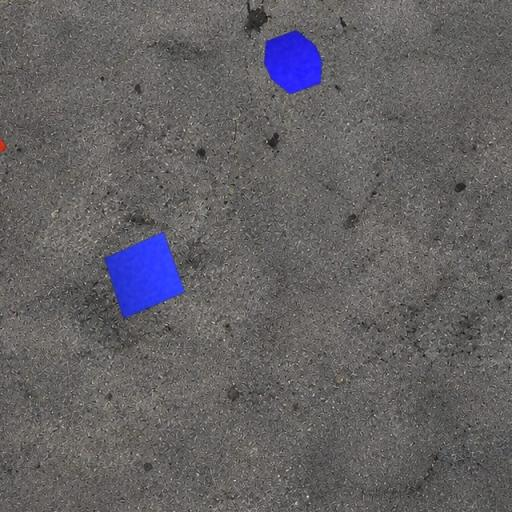BLUE_SQUARE: (103, 231, 186, 319)
